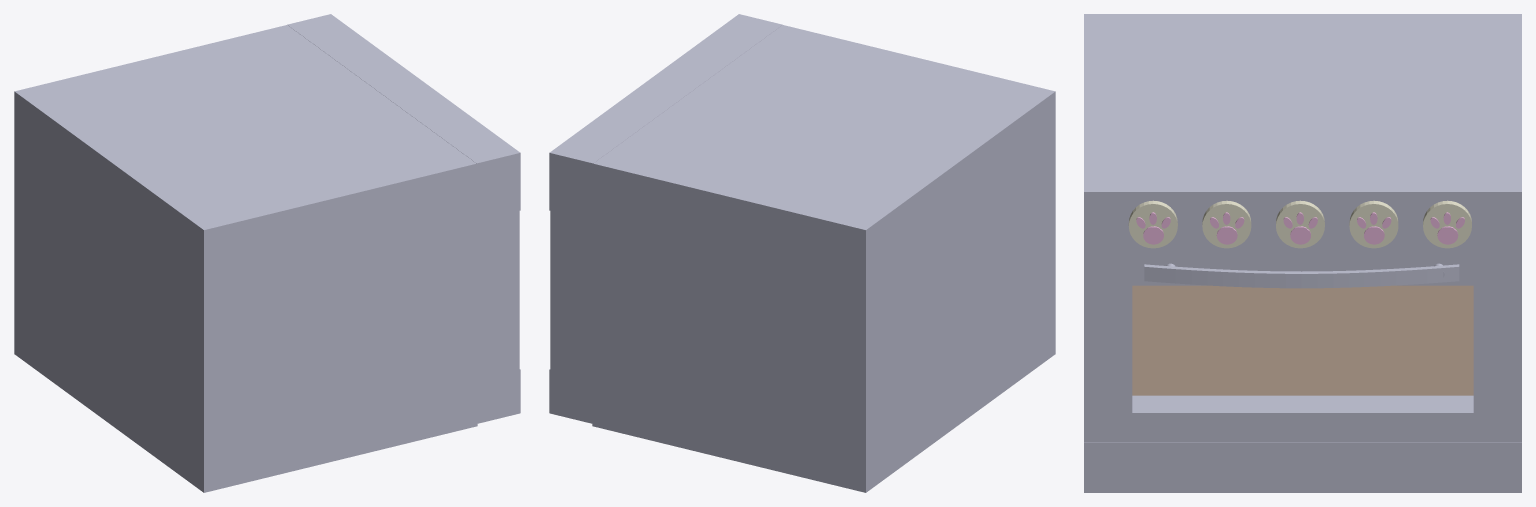
Rendered from oven_closed.fbx.
The picture shows the model from 3 angles, left to right: view 1: azimuth 30°, elevation 25°; view 2: azimuth 150°, elevation 25°; view 3: azimuth 270°, elevation 25°; orthographic projection. The views are drawn at different scales.
Visible parts, largest first — view 1: Cube.001; view 2: Cube.001; view 3: Cube.001.
Part boxes in pixels (box(x1,y1,x2,y2)): Cube.001: box(14, 14, 520, 492); Cube.001: box(549, 14, 1055, 492); Cube.001: box(1084, 14, 1521, 492).
Size of the model in its own units: 229 by 171 by 224.
